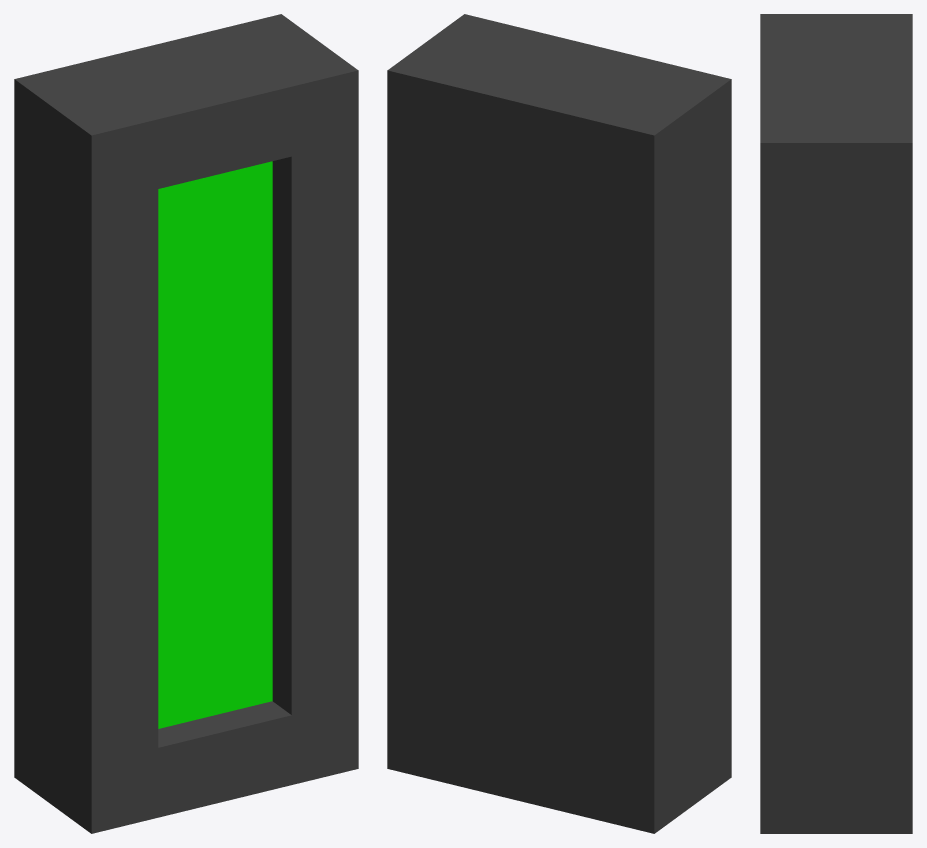
Rendered from ShapeKeyDemo.fbx.
3 renders of one model, left to right at view 1: azimuth 30°, elevation 25°; view 2: azimuth 150°, elevation 25°; view 3: azimuth 270°, elevation 25°, orthographic.
Visible parts, largest first — view 1: Cube; view 2: Cube; view 3: Cube.
Part boxes in pixels (<box>): Cube: <box>14,14,358,833</box>; Cube: <box>387,14,731,833</box>; Cube: <box>760,14,912,833</box>.
Size of the model in its own units: 80 by 200 by 40.
